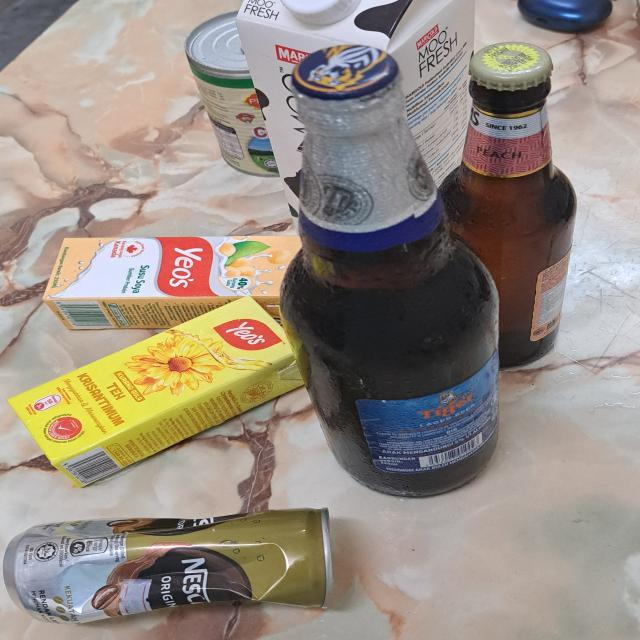can: (1, 506, 335, 624), (187, 12, 279, 178)
drink carton: (8, 297, 306, 487), (238, 0, 474, 212), (45, 236, 301, 329)
glass bottle: (280, 42, 500, 501), (436, 39, 579, 371)
